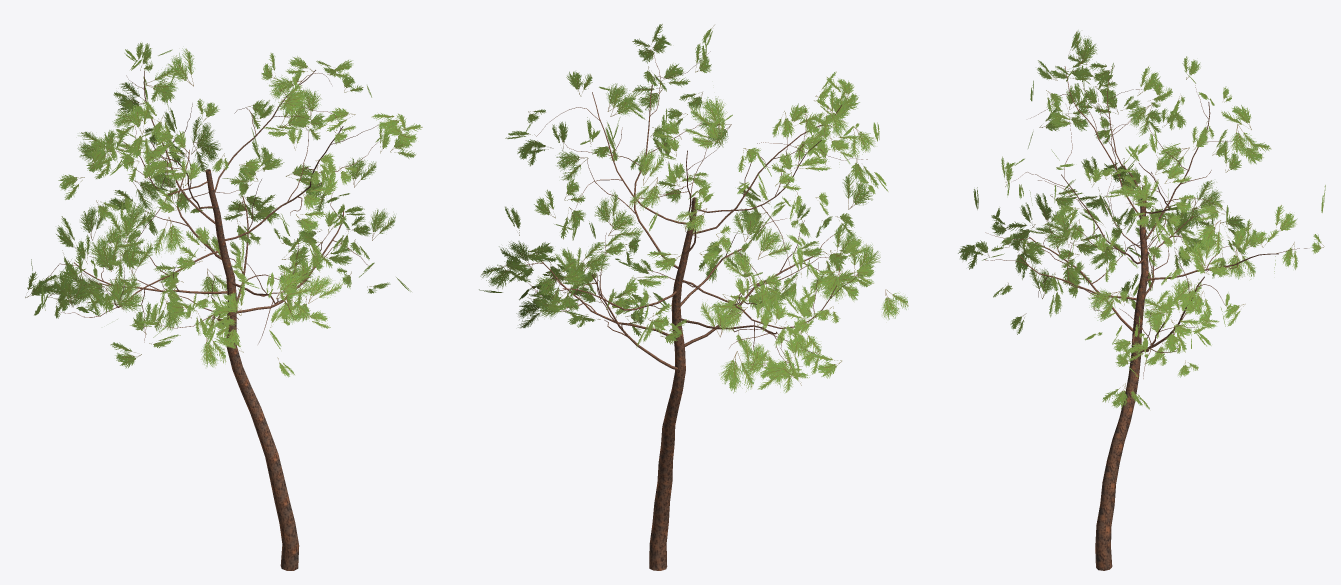
The model's file is AP3_AleppoPine_MatureUmbrella_14m.glb.
3 views of the same model, side by side, from view 1: azimuth 30°, elevation 25°; view 2: azimuth 150°, elevation 25°; view 3: azimuth 270°, elevation 25° (orthographic). The views are drawn at different scales.
Parts seen in each view (by area): view 1: AP3_leaves, AP3_wood; view 2: AP3_leaves, AP3_wood; view 3: AP3_leaves, AP3_wood.
Boxes of the visible parts, left/top/right/bottom form: AP3_leaves: left=25, top=42, right=422, bottom=377; AP3_wood: left=44, top=70, right=401, bottom=570; AP3_leaves: left=479, top=24, right=908, bottom=393; AP3_wood: left=506, top=48, right=867, bottom=570; AP3_leaves: left=958, top=30, right=1325, bottom=409; AP3_wood: left=985, top=66, right=1307, bottom=570.
Size of the model in its own units: 10.71 by 14.01 by 10.27.
Materials: 2 (2 with a texture image).
